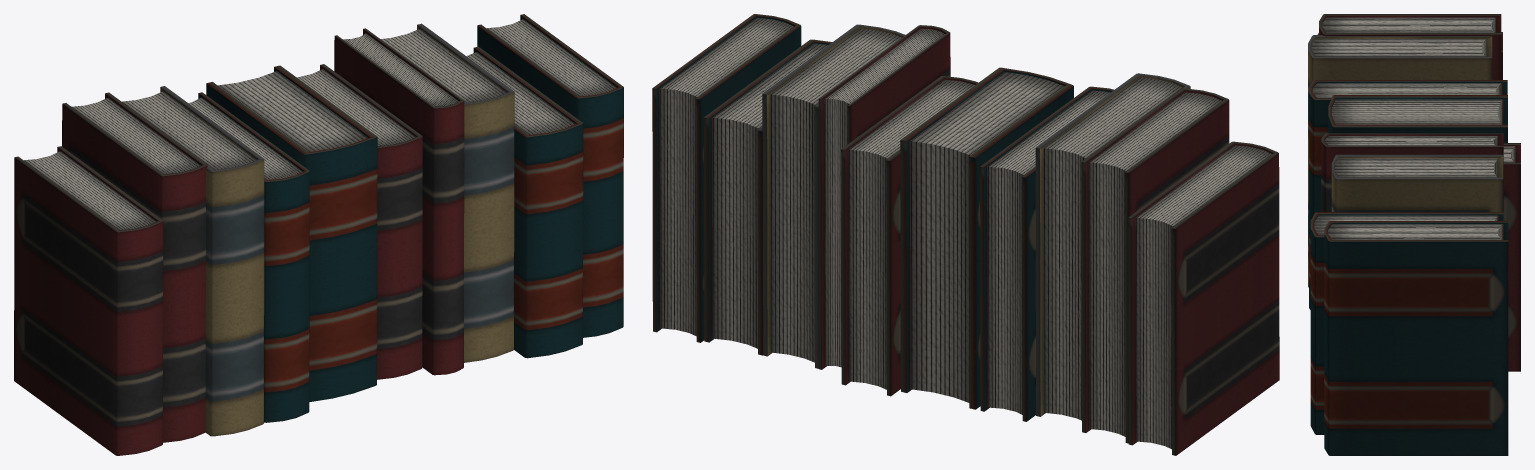
File: CI_065_books_var1.glb
3 views of the same model, side by side, from view 1: azimuth 30°, elevation 25°; view 2: azimuth 150°, elevation 25°; view 3: azimuth 270°, elevation 25° (orthographic). The views are drawn at different scales.
Visible parts, largest first — view 1: book_6, book_9, book_2, book_4, book_8, book_3, book_1, book_7, book_5, book_10; view 2: book_6, book_9, book_4, book_7, book_1, book_5, book_2, book_10, book_8, book_3; view 3: book_7, book_1, book_2, book_9, book_10, book_8, book_3, book_4, book_5.
Part boxes in pixels (x1,y1,x2,y2): book_6: [14, 146, 163, 455]; book_9: [206, 65, 377, 401]; book_2: [122, 86, 264, 436]; book_4: [62, 92, 207, 442]; book_8: [466, 46, 583, 358]; book_3: [334, 28, 464, 375]; book_1: [381, 23, 514, 362]; book_7: [477, 14, 623, 337]; book_5: [297, 64, 422, 379]; book_10: [188, 92, 309, 422]; book_6: [1128, 141, 1279, 455]; book_9: [900, 67, 1073, 409]; book_4: [1081, 88, 1229, 443]; book_7: [652, 14, 801, 342]; book_1: [762, 24, 905, 368]; book_5: [841, 76, 978, 396]; book_2: [1035, 73, 1190, 420]; book_10: [980, 86, 1113, 421]; book_8: [704, 39, 832, 355]; book_3: [818, 25, 950, 369]; book_7: [1324, 221, 1508, 455]; book_1: [1331, 154, 1503, 212]; book_2: [1308, 35, 1492, 287]; book_9: [1328, 95, 1507, 142]; book_10: [1309, 80, 1507, 309]; book_8: [1310, 212, 1503, 434]; book_3: [1321, 133, 1503, 211]; book_4: [1319, 14, 1501, 79]; book_5: [1503, 143, 1520, 371].
Bounding box in the file's own units: 1.5 × 0.7467 × 0.6034.
Materials: 1 (1 with a texture image).
